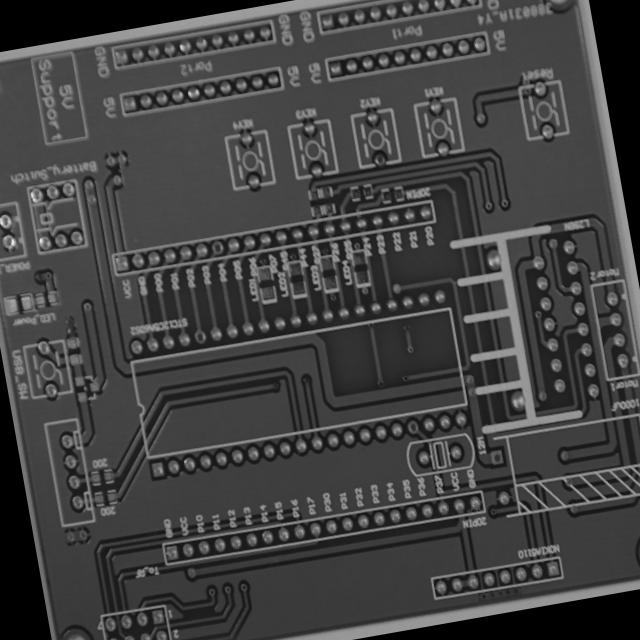missing_hole: (402, 415, 422, 438), (190, 327, 209, 348), (208, 237, 226, 257), (370, 148, 388, 168), (488, 448, 506, 467)
